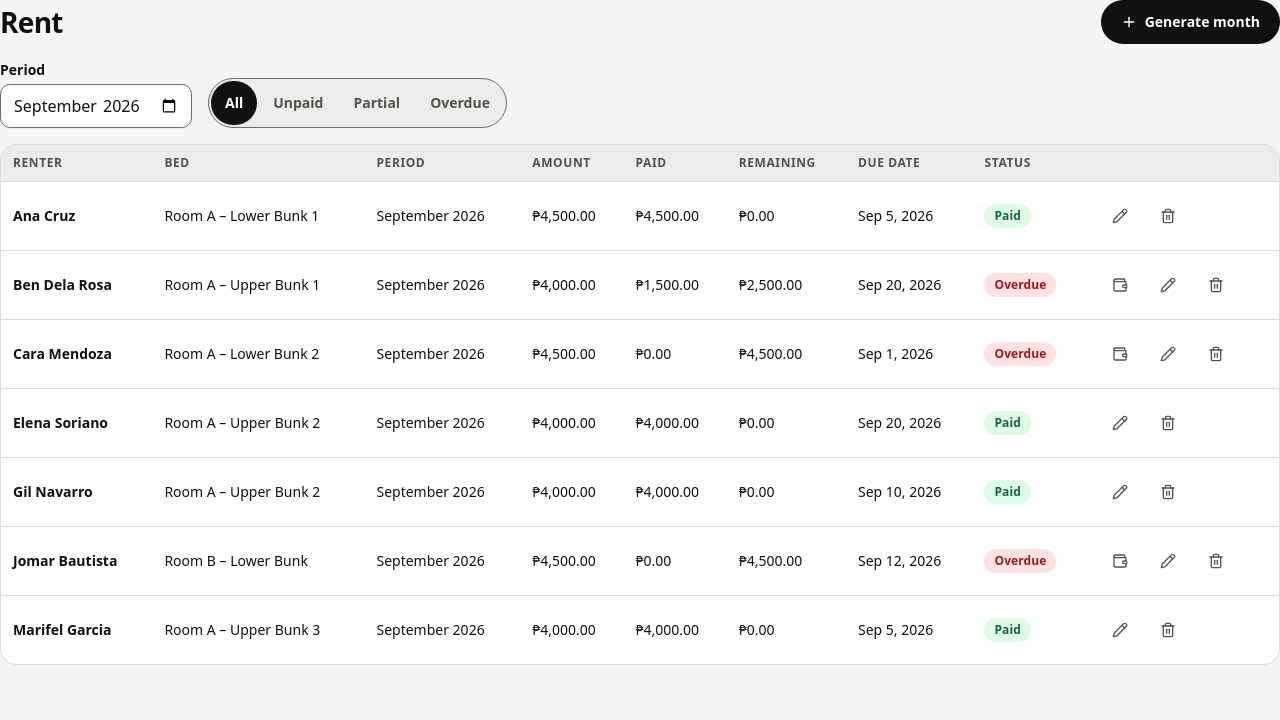
it: Record payment modal (F17, R37, R52, SC-34, SC-40) › defaults to the remaining amount, requires a reference for GCash but not cash, and warns about excess
Expected: the text "Ana Cruz" is shown, [1,182,152,250]
Click the button named "Record payment" in the row of "Ben Dela Rosa": (1120, 285) [1098,263,1142,307]
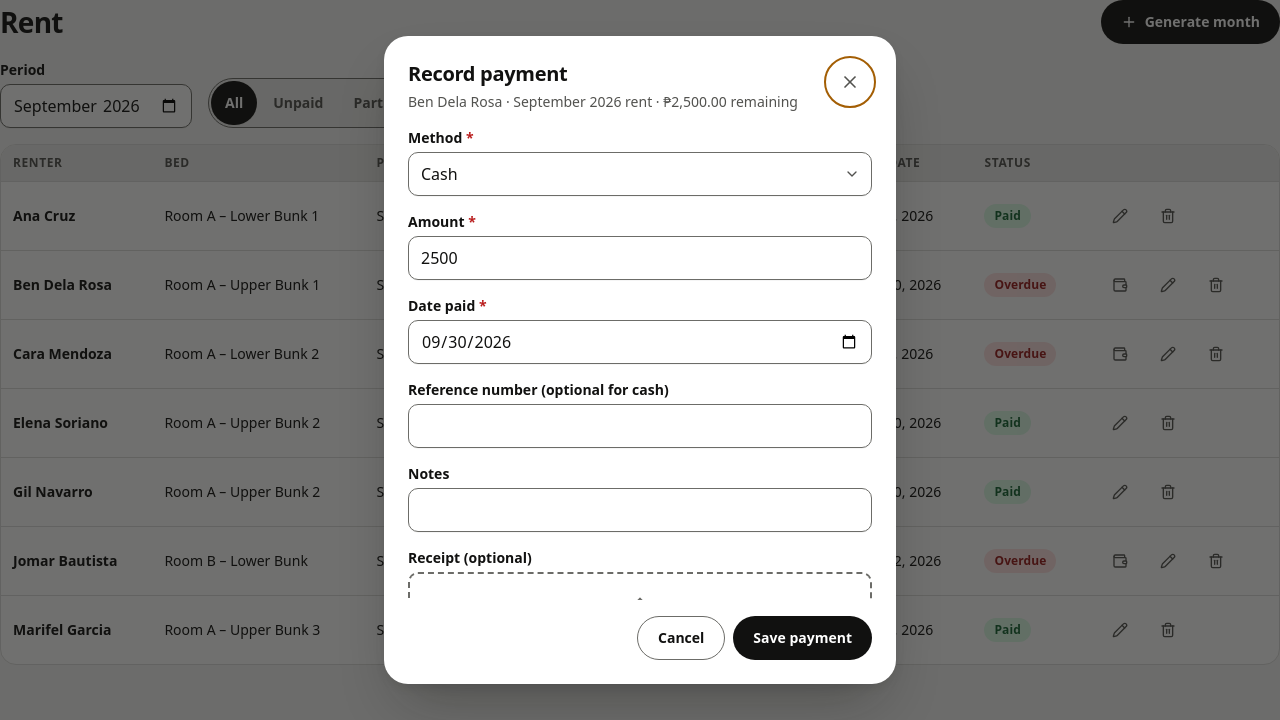
Expected: the field labelled "Amount *" holds "2500", [408,236,872,280]
Select "GCash" in the dropdown labelled "Method *": (640, 174) [408,152,872,196]
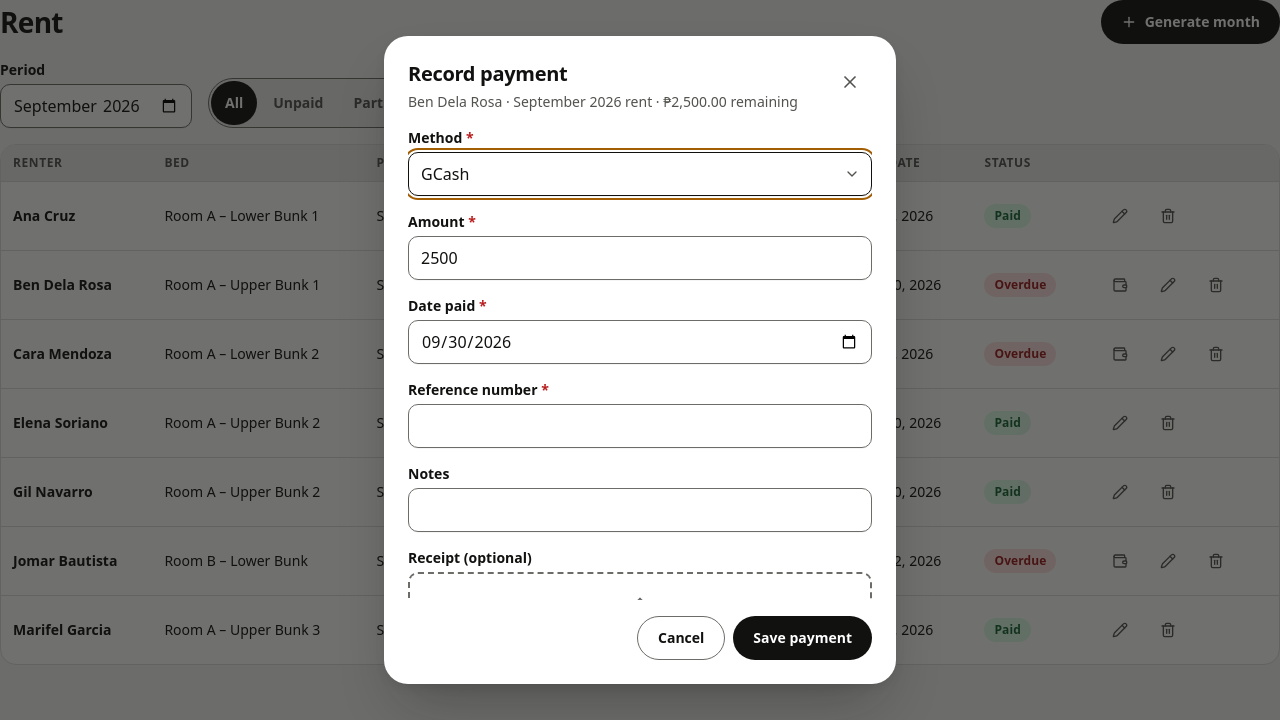
Click the button "Save payment": (803, 638) [733,616,872,660]
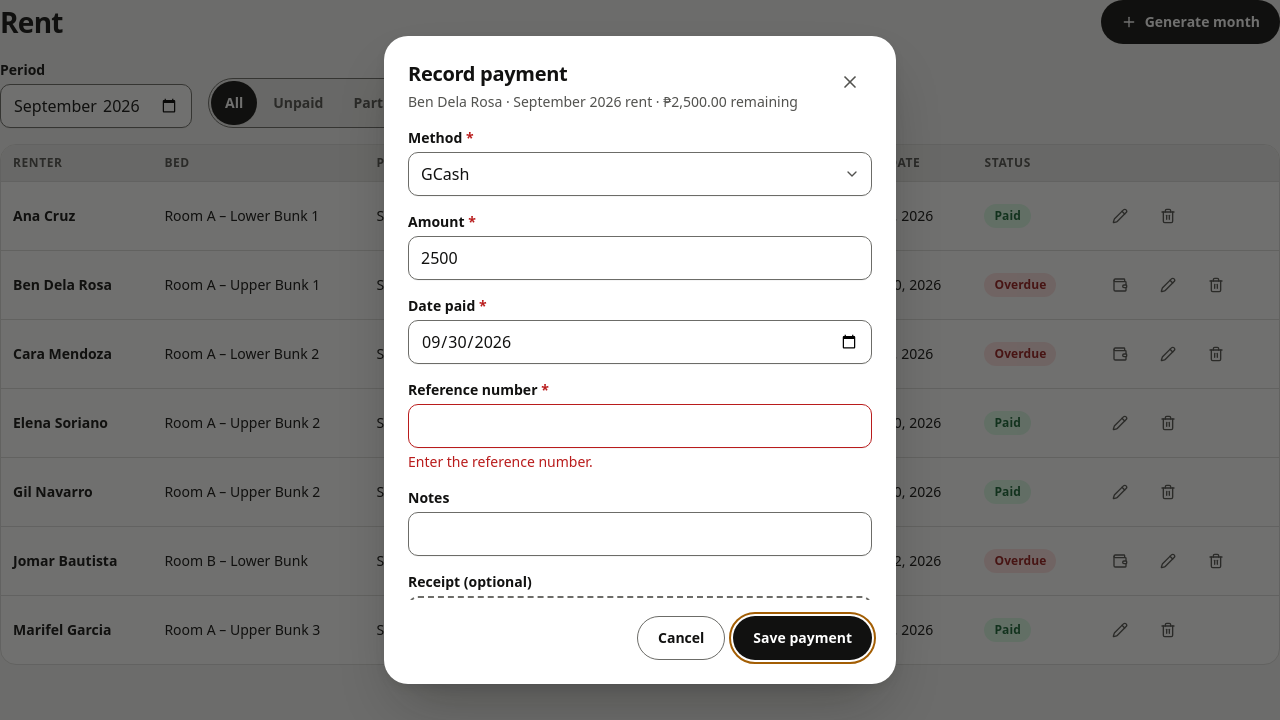
Expected: the text "Enter the reference number." is shown, [408,452,593,471]
Replace the text in the field labelled "Amount *" with "3000": (640, 258) [408,236,872,280]
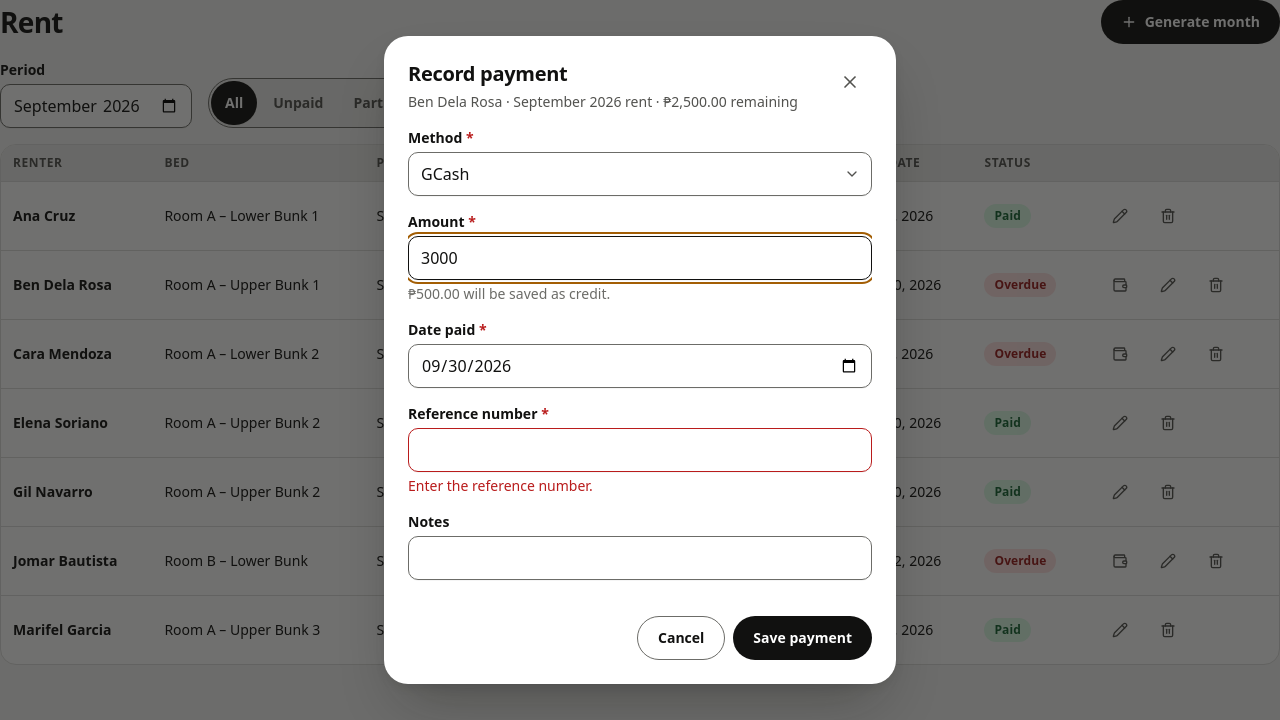
Expected: the text "₱500.00 will be saved as credit." is shown, [408,284,610,303]
